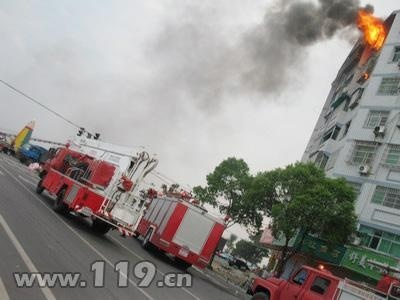fire: (359, 8, 386, 47)
